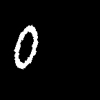chain: (14, 26, 37, 68)
